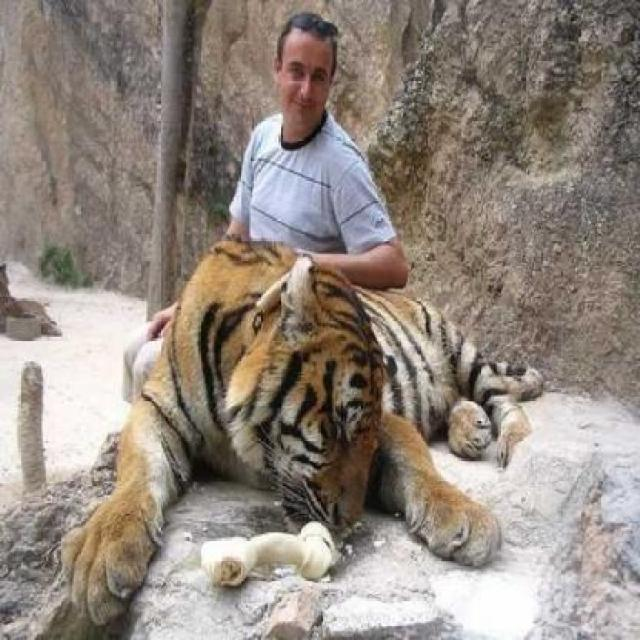Tiger: (44, 242, 547, 638)
